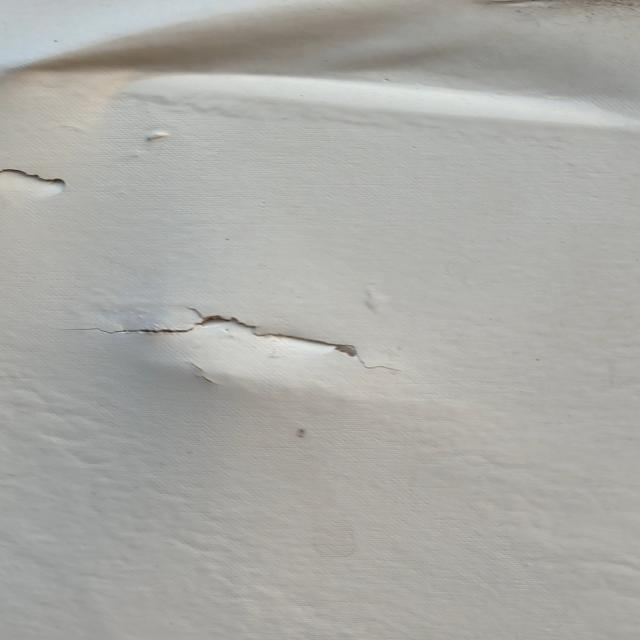Dents or Deformation: (1, 3, 640, 135)
Scratches: (74, 292, 425, 356), (1, 160, 123, 205)
